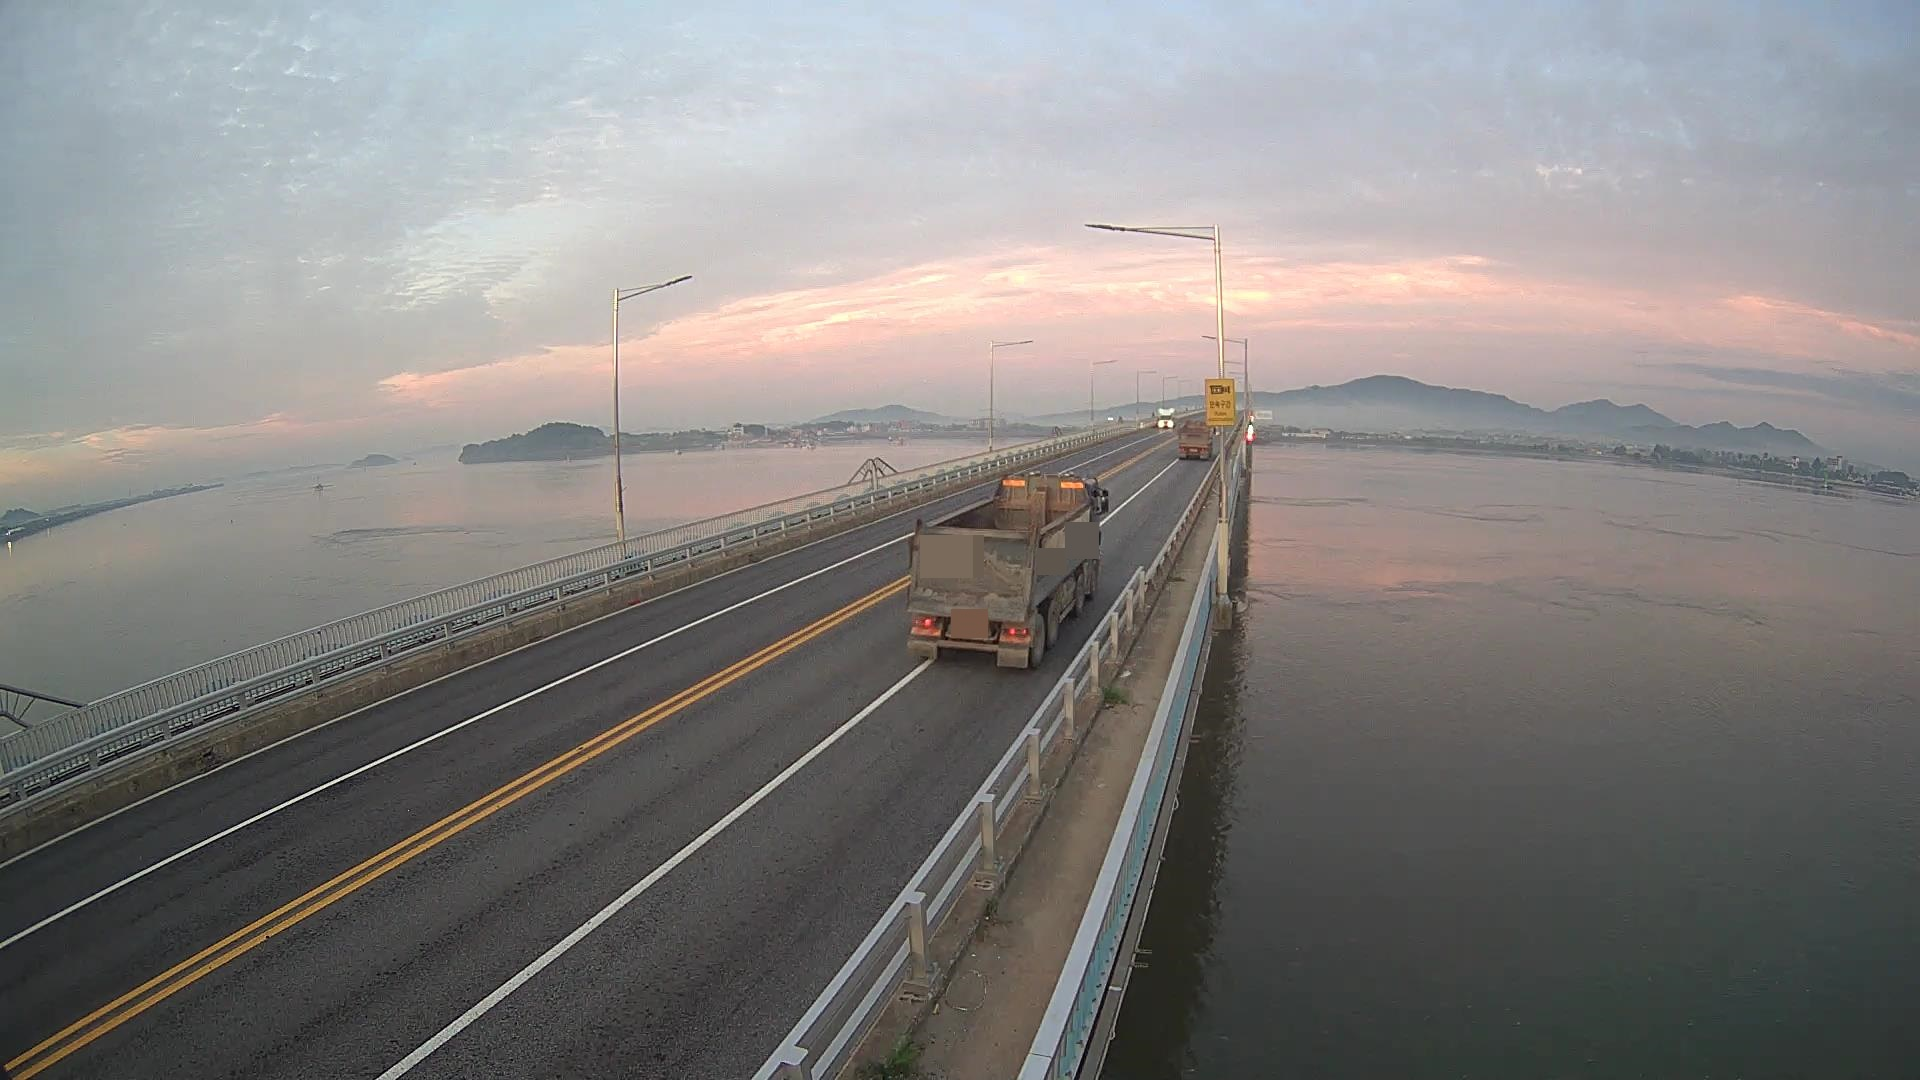정상차량: (906, 471, 1109, 670)
